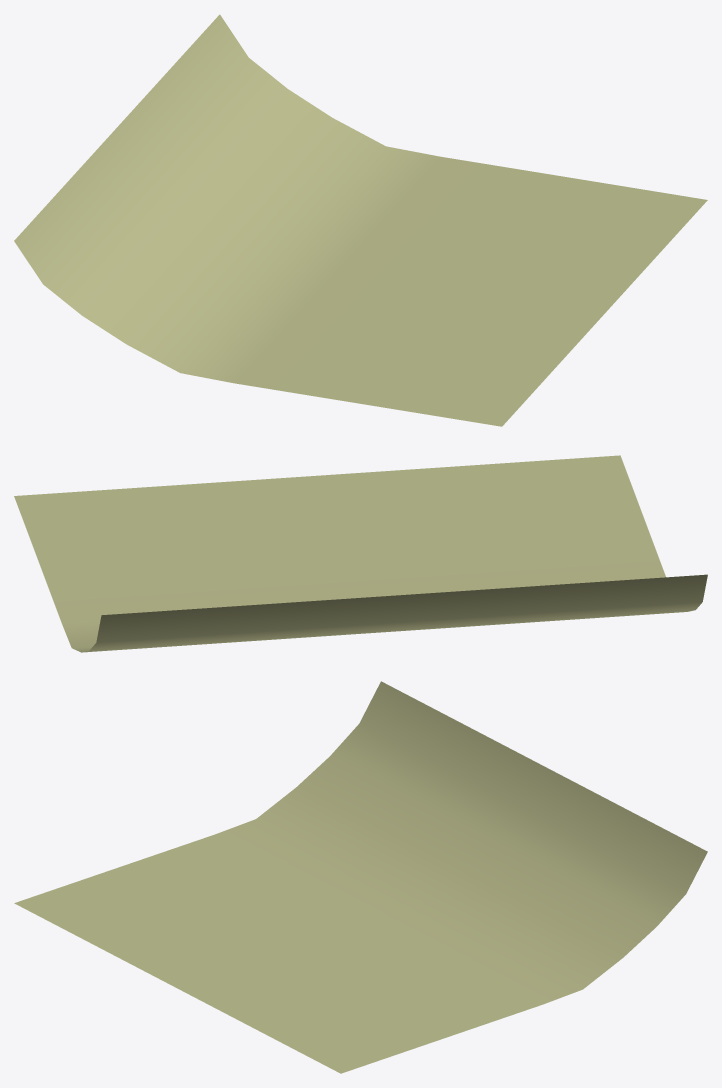
File: Post-It 1.fbx
3 views of the same model, one above another, from view 1: azimuth 30°, elevation 25°; view 2: azimuth 150°, elevation 25°; view 3: azimuth 270°, elevation 25° (orthographic). The views are drawn at different scales.
Visible parts, largest first — view 1: pPlane29; view 2: pPlane29; view 3: pPlane29.
Boxes of the visible parts, x1,y1,x2,y2 form: pPlane29: (14,14,707,426); pPlane29: (14,455,707,652); pPlane29: (14,681,707,1073).
Size of the model in its own units: 1.35 by 0.2048 by 1.34.
